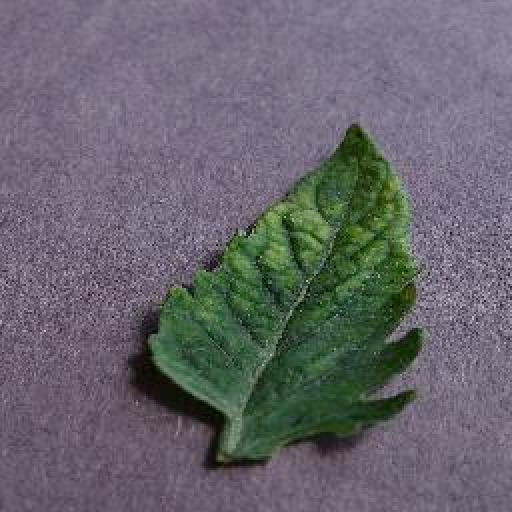disease_tomato: (152, 120, 424, 464)
